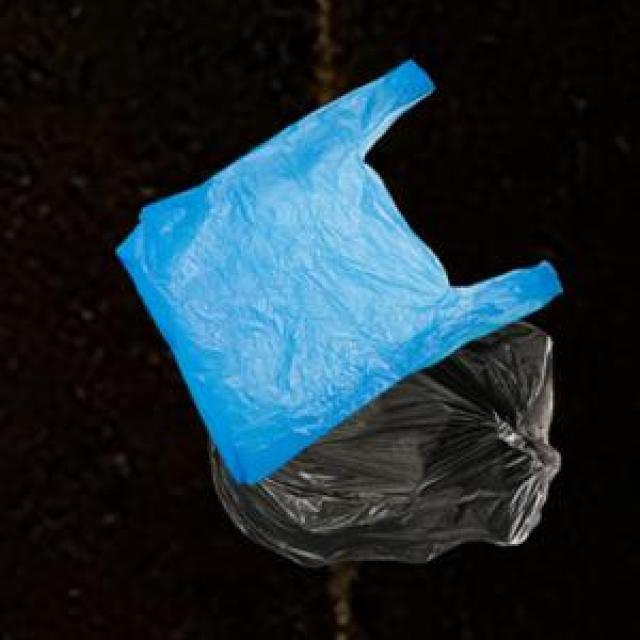miscellaneous trash: (205, 316, 555, 563)
